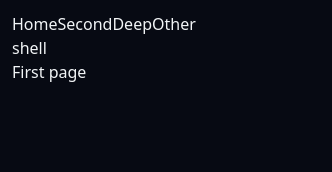
Scenario: RoutedPage › swaps the page without ever unmounting the shell around it
Click the link "Second". click: point(85, 24)
box: [58,13,112,35]
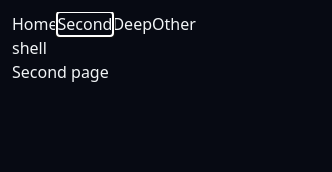
Now the heading "Second page" is shown, box [12,61,109,83]
